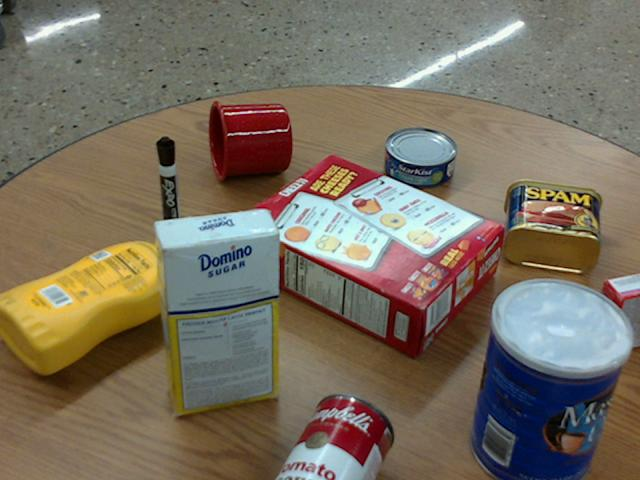cracker_box: (237, 154, 501, 352)
gelatin_box: (587, 272, 639, 353)
large_marker: (156, 136, 180, 240)
master_chef_can: (469, 278, 631, 479)
mug: (208, 101, 292, 181)
mustard_bottle: (0, 240, 195, 373)
potted_meat_can: (504, 178, 601, 272)
sugar_box: (153, 209, 277, 413)
tomato_soup_can: (276, 392, 394, 479)
tuna_fish_can: (385, 127, 457, 186)
